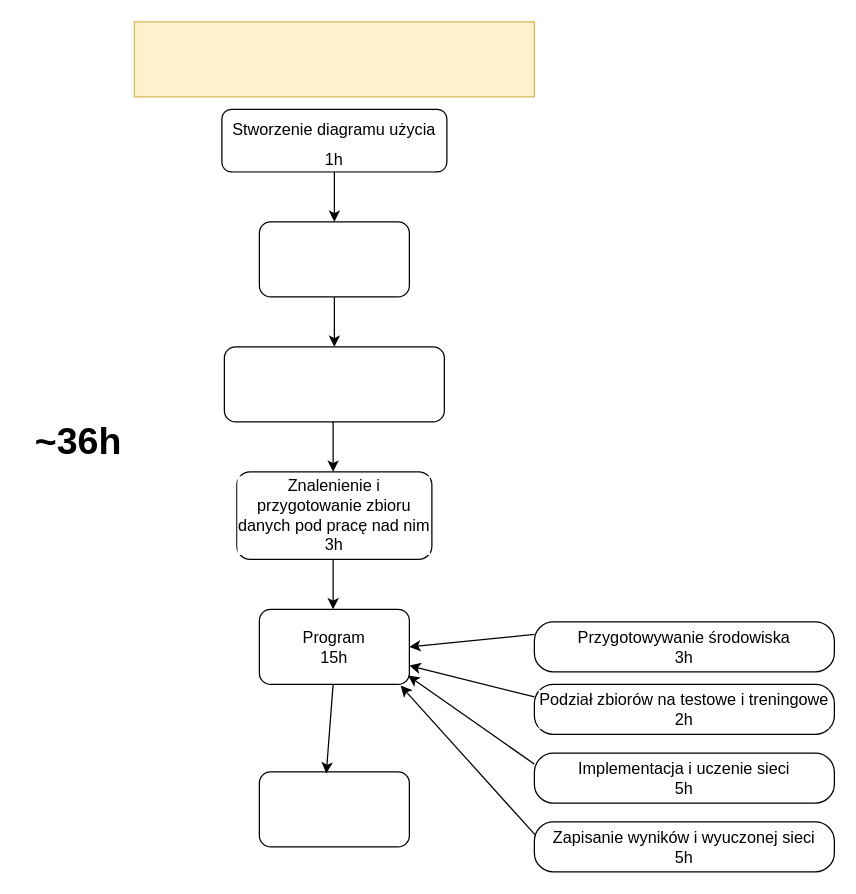
Some shapes in this 856 by 894 pixel diagram are drawn without their labels. Here are the shapes that lost their labels. From the top down, the box of each, then its label:
(133, 21, 534, 97): Szacowany czas projektu Face Mask Detection
(258, 221, 409, 297): Wybór odpowiedniej sieci neuronowej 2h
(223, 346, 444, 422): Zebranie informacji o działaniu i implementacji sieci 10h
(258, 771, 409, 847): Dokumentacja 5h
